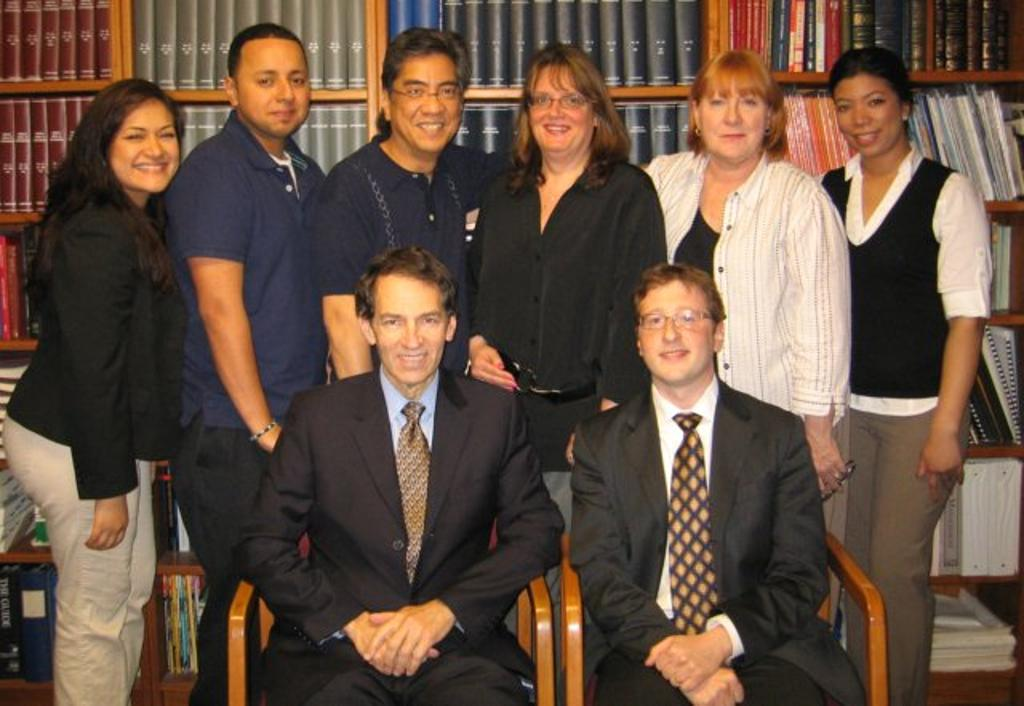face: (370, 274, 448, 388), (638, 282, 710, 382), (396, 58, 468, 156), (110, 100, 182, 192), (238, 44, 306, 136), (534, 68, 596, 152), (832, 84, 902, 154), (704, 84, 766, 160)
